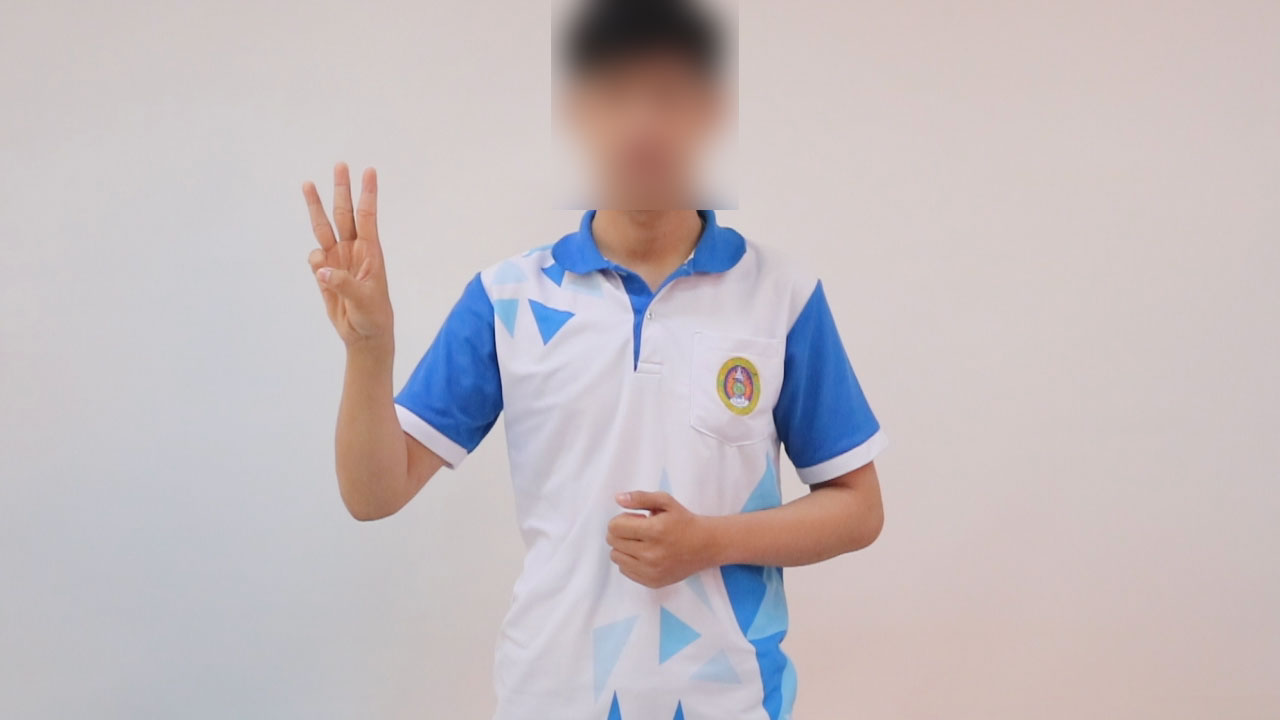wor: (294, 157, 402, 357)
